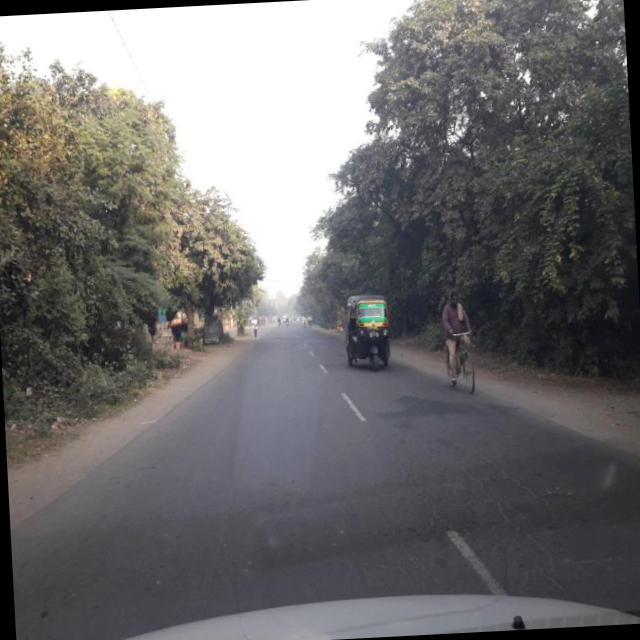crack: (445, 438, 578, 580)
